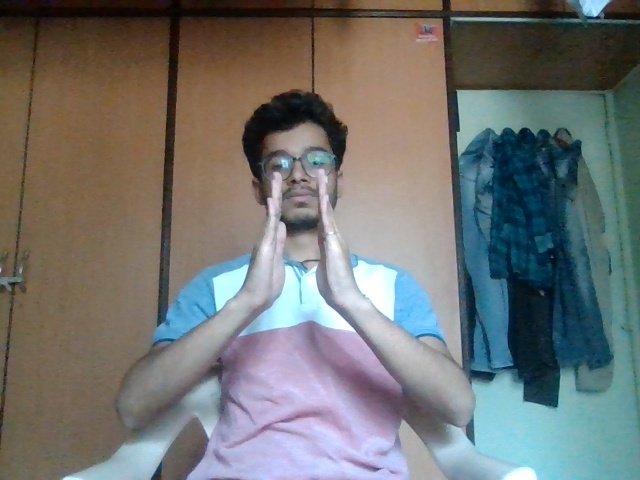morning: (243, 155, 366, 317)
